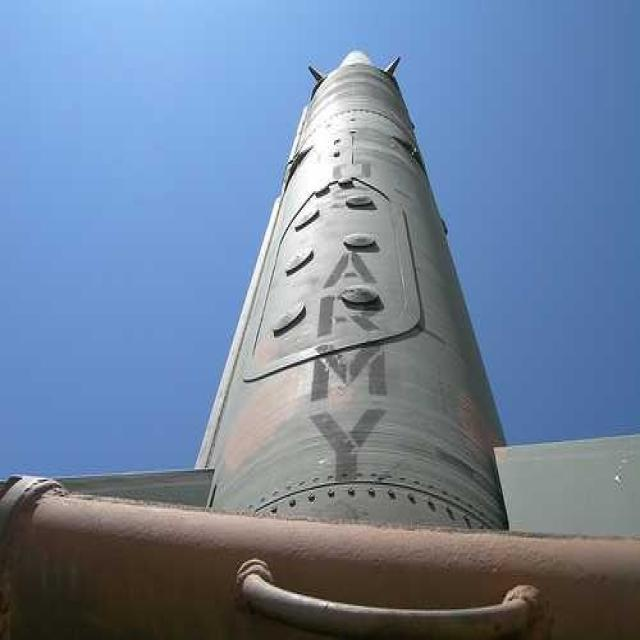missile: (194, 45, 524, 542)
